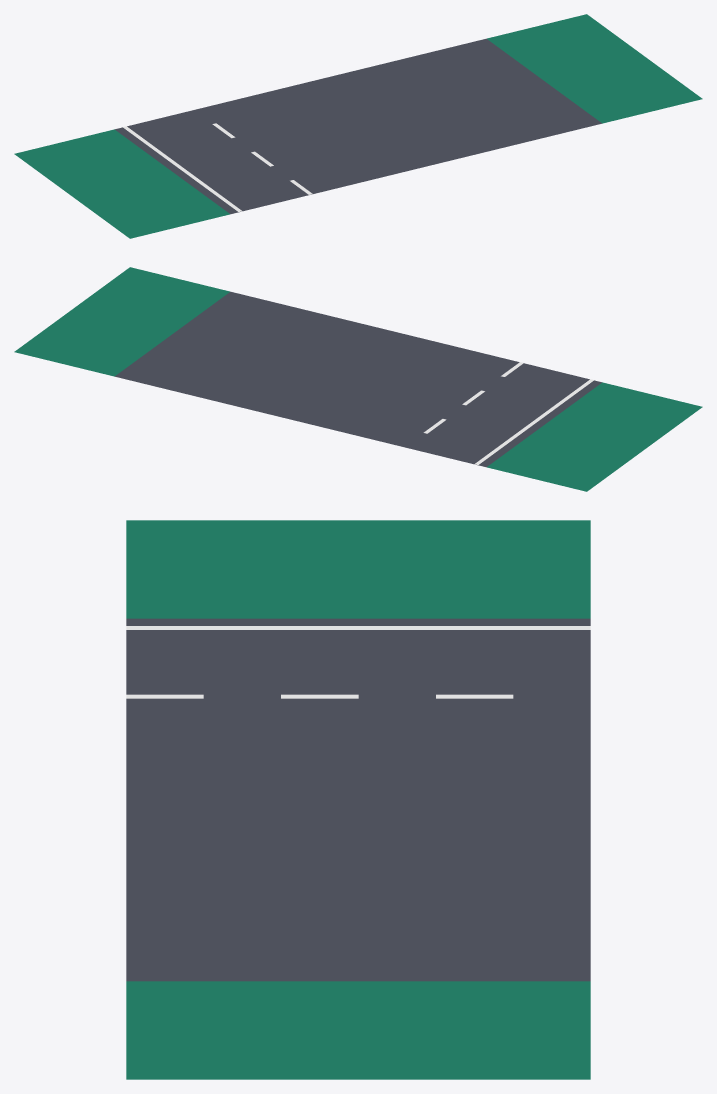
Rendered from RoadFlat.glb.
The picture shows the model from 3 angles, top to bottom: view 1: azimuth 30°, elevation 25°; view 2: azimuth 150°, elevation 25°; view 3: azimuth 270°, elevation 25°; orthographic projection. The views are drawn at different scales.
Visible parts, largest first — view 1: RoadSegment_10m, Road_Line_Continues; view 2: RoadSegment_10m, Road_Line_Continues; view 3: RoadSegment_10m, Road_Line_Continues, Road_Line_Striped.
Boxes of the visible parts, bbox=[...] form: RoadSegment_10m: bbox=[14, 14, 702, 238]; Road_Line_Continues: bbox=[123, 126, 242, 211]; RoadSegment_10m: bbox=[14, 267, 702, 491]; Road_Line_Continues: bbox=[474, 379, 593, 464]; RoadSegment_10m: bbox=[126, 520, 590, 1079]; Road_Line_Continues: bbox=[126, 626, 590, 629]; Road_Line_Striped: bbox=[126, 694, 513, 698].
Size of the model in its own units: 28.5 by 0.01 by 10.
1 material, 1 textured.
